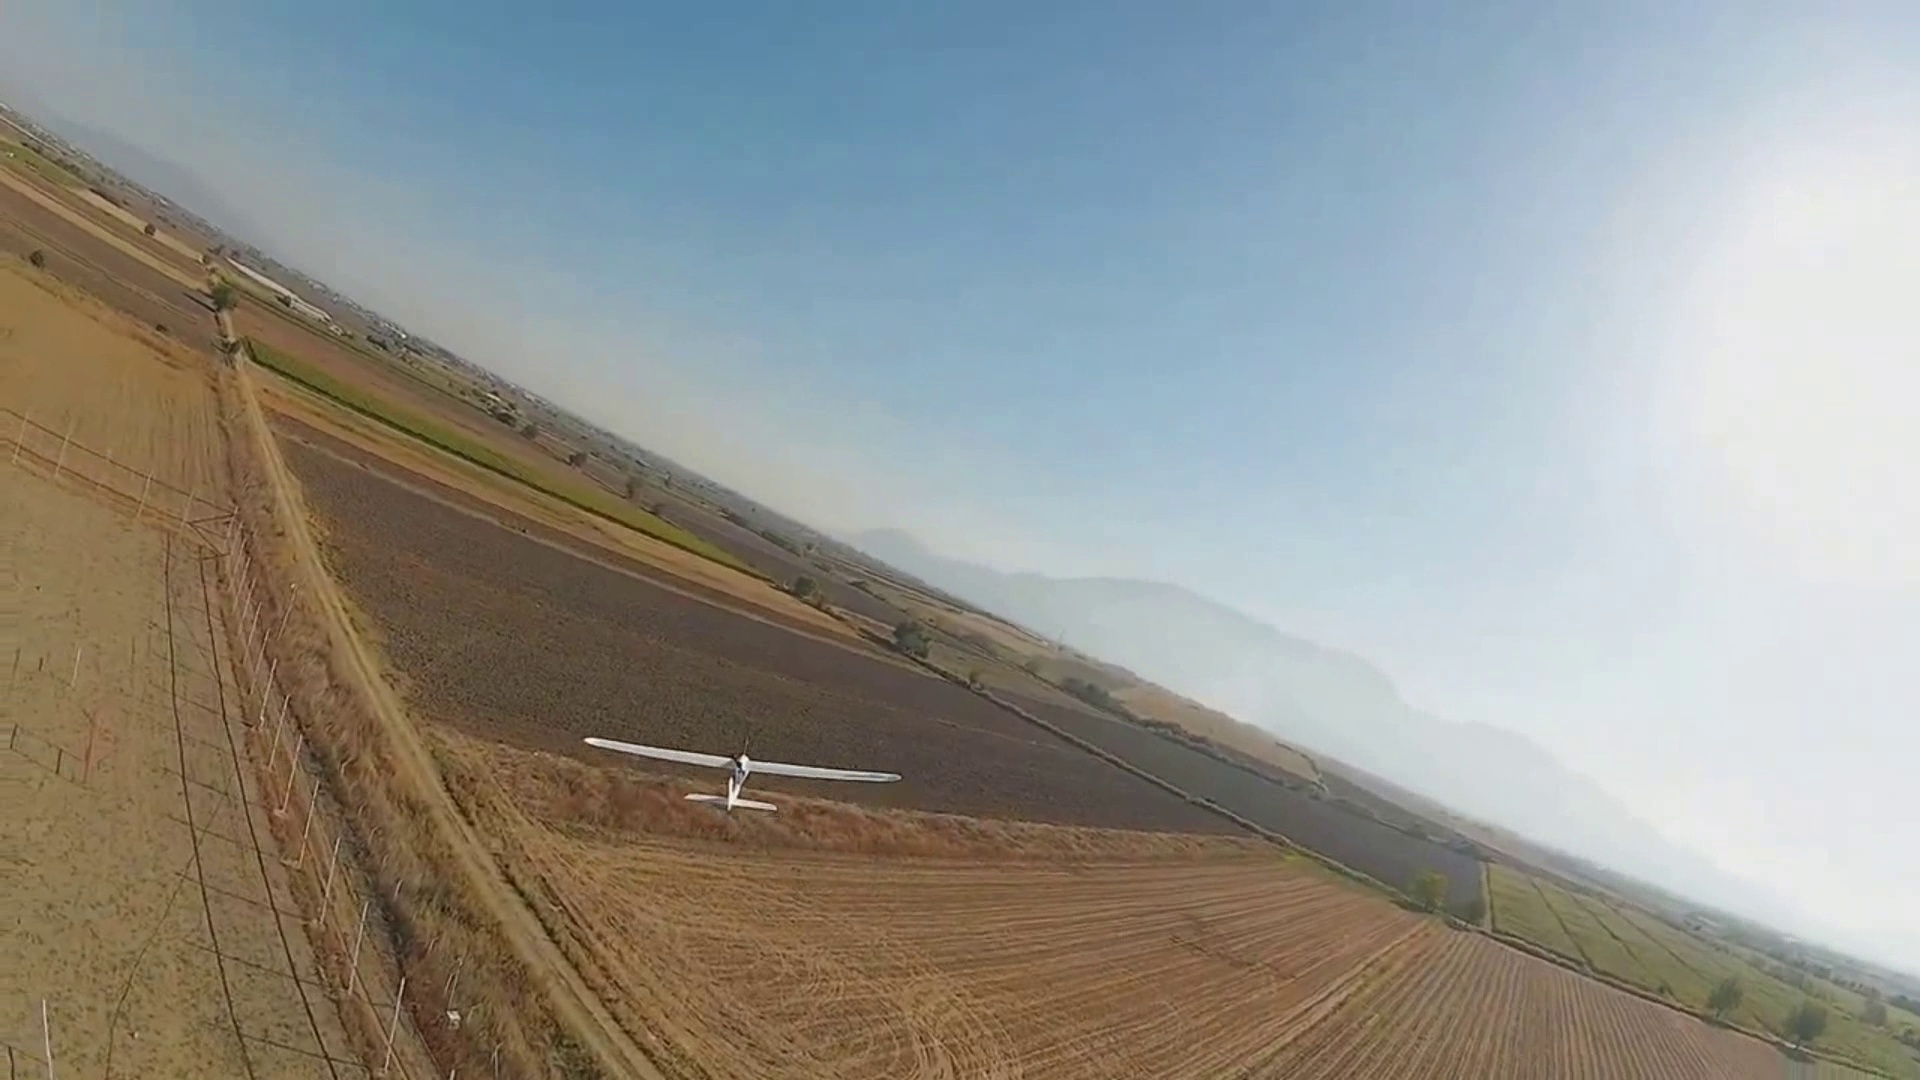airplane: (26, 186, 1918, 1039), (582, 731, 902, 815)
